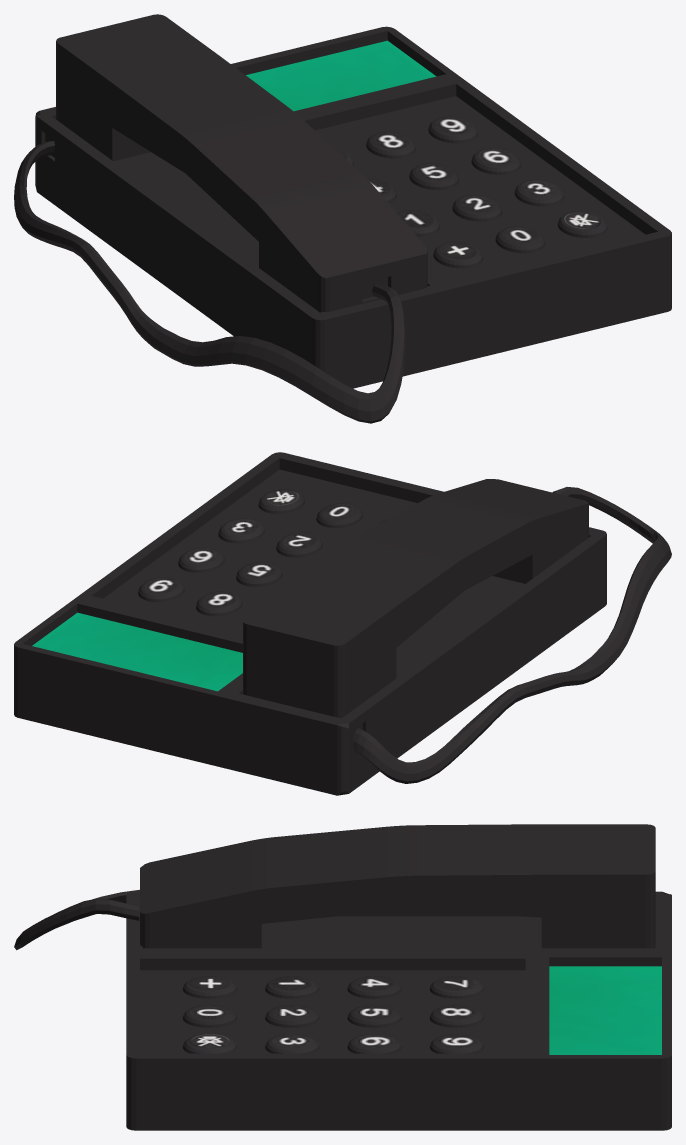
File: Telephone.fbx
The picture shows the model from 3 angles, top to bottom: view 1: azimuth 30°, elevation 25°; view 2: azimuth 150°, elevation 25°; view 3: azimuth 270°, elevation 25°; orthographic projection. The views are drawn at different scales.
Parts seen in each view (by area): view 1: Telephone_LOD_0; view 2: Telephone_LOD_0; view 3: Telephone_LOD_0.
Boxes of the visible parts, x1,y1,x2,y2 form: Telephone_LOD_0: [14, 14, 671, 423]; Telephone_LOD_0: [14, 452, 671, 795]; Telephone_LOD_0: [14, 824, 671, 1130].
Size of what is drawn, in the model's own units: 19.65 by 6.55 by 26.87.
